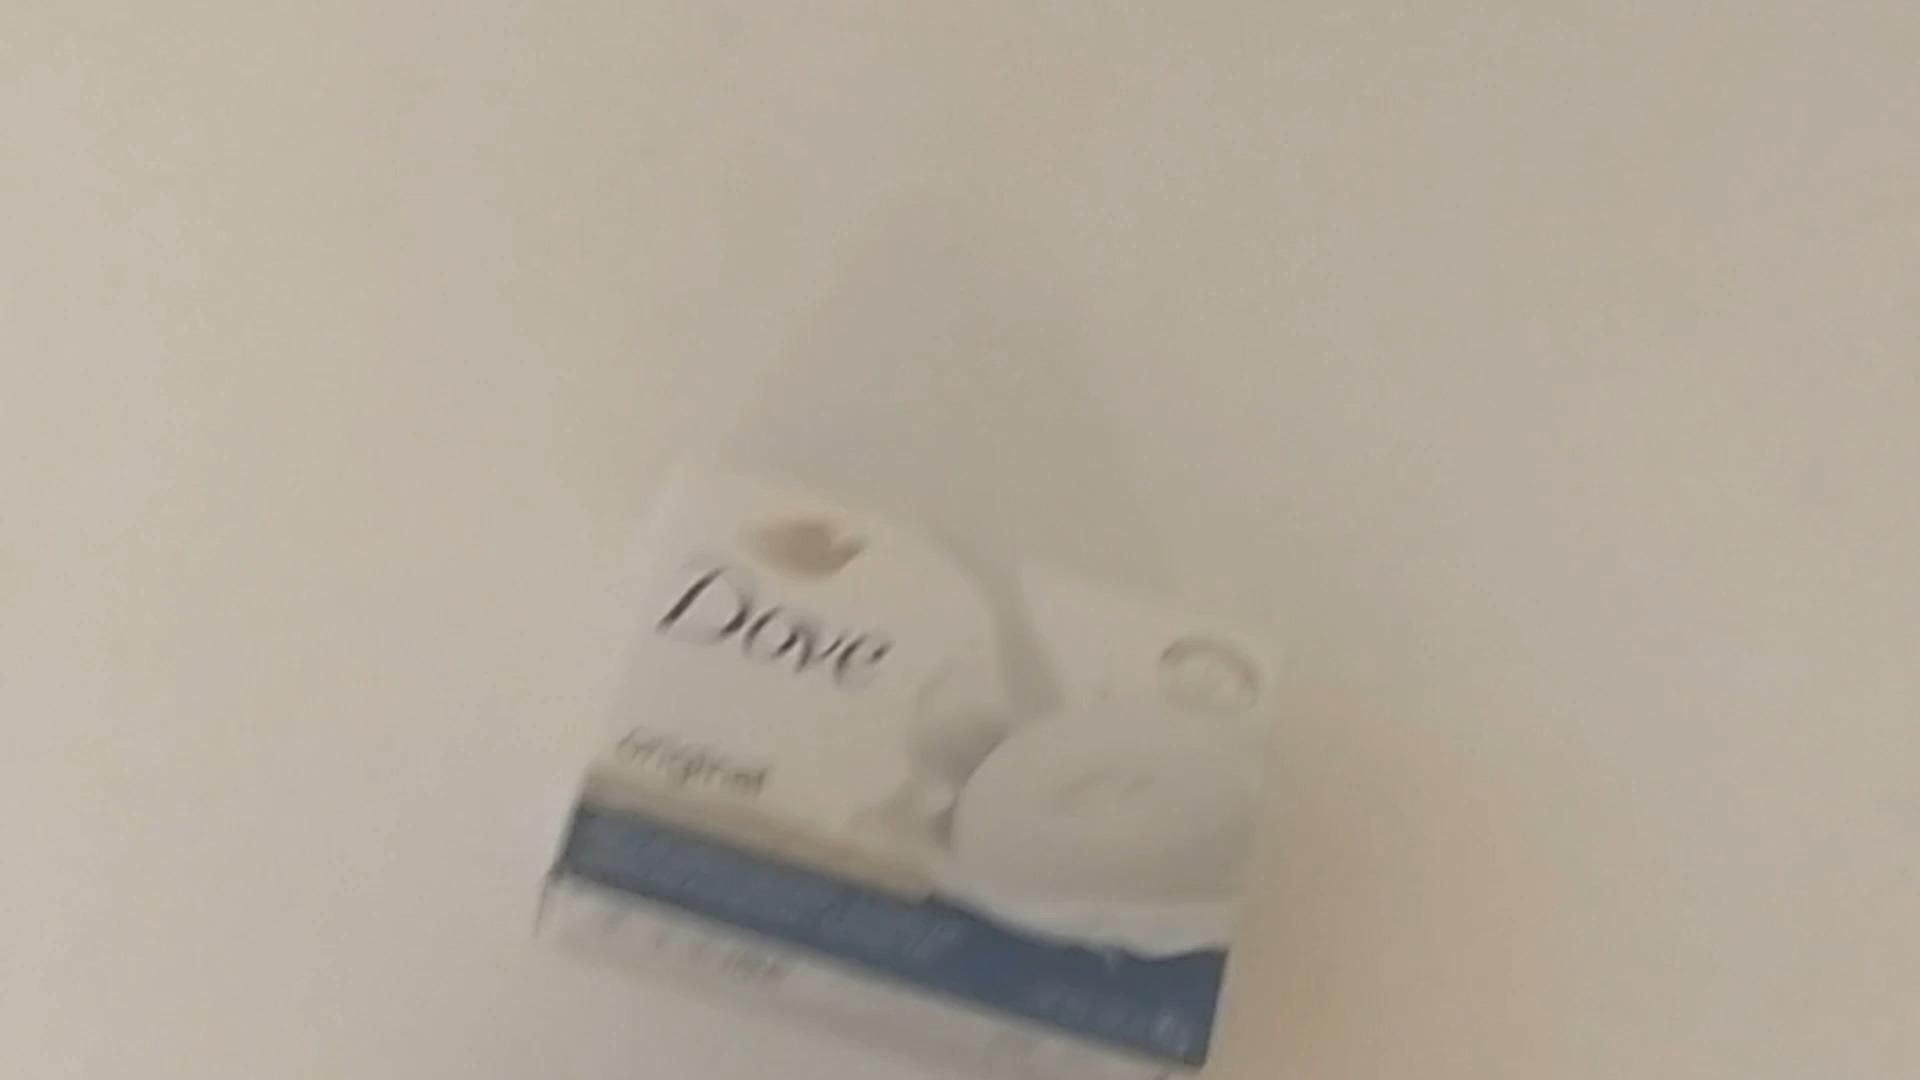soap: (530, 472, 1263, 1076)
